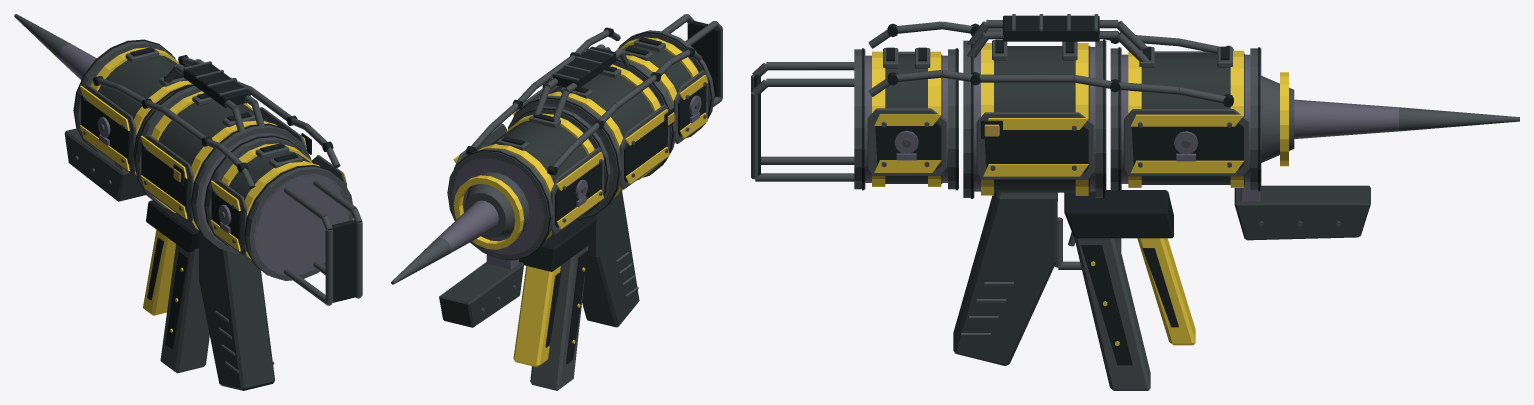
Rendered from smg_4.glb.
3 renders of one model, left to right at view 1: azimuth 30°, elevation 25°; view 2: azimuth 150°, elevation 25°; view 3: azimuth 270°, elevation 25°, orthographic. The views are drawn at different scales.
Visible parts, largest first — view 1: Weapon_smg_v1; view 2: Weapon_smg_v1; view 3: Weapon_smg_v1.
Boxes of the visible parts, <box> form: Weapon_smg_v1: <box>14,14,362,390</box>; Weapon_smg_v1: <box>391,14,722,390</box>; Weapon_smg_v1: <box>751,14,1519,390</box>.
Size of the model in its own units: 0.162 by 0.363 by 0.699.
